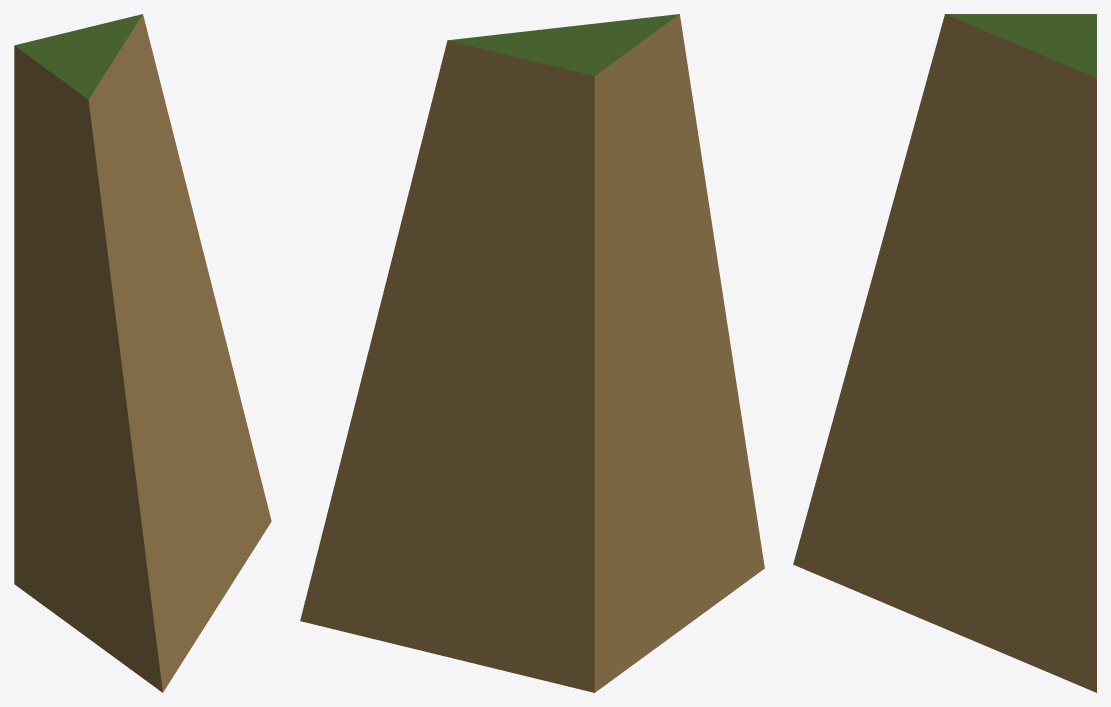
The model's file is Terrain_Tile_Grass_Dirt_Cliff_Face_Angled_Corner_01.fbx.
3 renders of one model, left to right at view 1: azimuth 30°, elevation 25°; view 2: azimuth 150°, elevation 25°; view 3: azimuth 270°, elevation 25°, orthographic. The views are drawn at different scales.
Visible parts, largest first — view 1: Terrain_Tile_Grass_Dirt_Cliff_Face_Angled_Corner_01; view 2: Terrain_Tile_Grass_Dirt_Cliff_Face_Angled_Corner_01; view 3: Terrain_Tile_Grass_Dirt_Cliff_Face_Angled_Corner_01.
Boxes of the visible parts, left/top/right/bottom form: Terrain_Tile_Grass_Dirt_Cliff_Face_Angled_Corner_01: left=14, top=14, right=271, bottom=692; Terrain_Tile_Grass_Dirt_Cliff_Face_Angled_Corner_01: left=300, top=14, right=764, bottom=692; Terrain_Tile_Grass_Dirt_Cliff_Face_Angled_Corner_01: left=793, top=14, right=1096, bottom=692.
Size of the model in its own units: 62.99 by 126 by 62.99.
